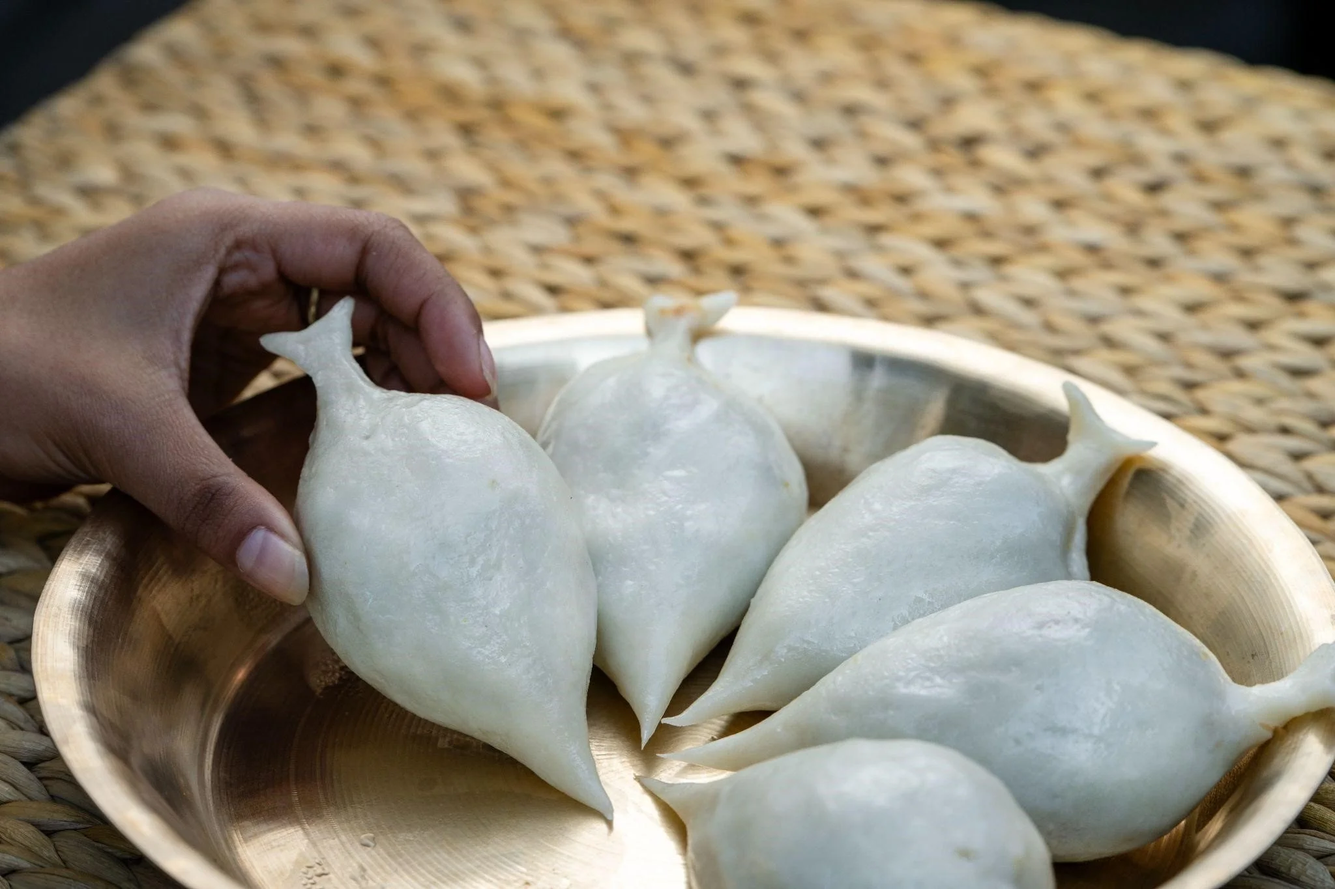yomari: (856, 371, 1176, 643), (584, 258, 769, 721), (915, 623, 1335, 769), (617, 760, 1069, 889), (250, 271, 428, 558)
